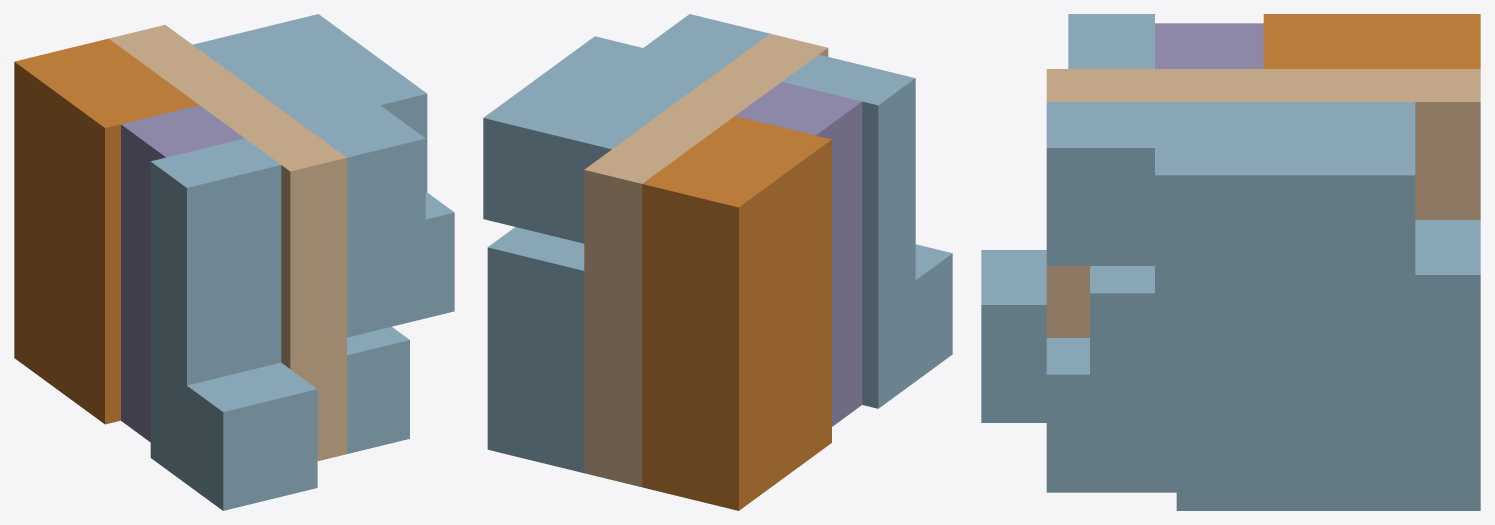
File: option.glb
The picture shows the model from 3 angles, left to right: view 1: azimuth 30°, elevation 25°; view 2: azimuth 150°, elevation 25°; view 3: azimuth 270°, elevation 25°; orthographic projection. The views are drawn at different scales.
Parts seen in each view (by area): view 1: cell_6, cell_4, cell_12, cell_11, cell_13, cell_10, cell_5, cell_14, cell_9, cell_3, cell_7, cell_0; view 2: cell_6, cell_13, cell_12, cell_5, cell_8, cell_1, cell_4, cell_11, cell_0, cell_7, cell_10, cell_14; view 3: cell_13, cell_9, cell_8, cell_12, cell_1, cell_14, cell_3, cell_2, cell_6, cell_4, cell_5, cell_11 (+1 smaller).
Part boxes in pixels (x1=…): cell_6: x1=14, y1=38, x2=198, y2=424; cell_4: x1=150, y1=359, x2=317, y2=510; cell_12: x1=109, y1=25, x2=346, y2=270; cell_11: x1=150, y1=138, x2=281, y2=286; cell_13: x1=193, y1=14, x2=427, y2=192; cell_10: x1=150, y1=260, x2=281, y2=385; cell_5: x1=121, y1=105, x2=244, y2=442; cell_14: x1=302, y1=105, x2=425, y2=256; cell_9: x1=347, y1=192, x2=454, y2=337; cell_3: x1=347, y1=326, x2=409, y2=453; cell_7: x1=281, y1=256, x2=346, y2=368; cell_0: x1=290, y1=355, x2=346, y2=460; cell_6: x1=642, y1=116, x2=831, y2=510; cell_13: x1=483, y1=36, x2=723, y2=243; cell_12: x1=584, y1=33, x2=828, y2=284; cell_5: x1=735, y1=82, x2=862, y2=426; cell_8: x1=487, y1=227, x2=584, y2=371; cell_1: x1=487, y1=348, x2=584, y2=472; cell_4: x1=862, y1=244, x2=952, y2=408; cell_11: x1=782, y1=54, x2=915, y2=206; cell_0: x1=584, y1=372, x2=642, y2=487; cell_7: x1=584, y1=271, x2=642, y2=385; cell_10: x1=862, y1=179, x2=915, y2=307; cell_14: x1=643, y1=14, x2=769, y2=67; cell_13: x1=1155, y1=102, x2=1415, y2=293; cell_9: x1=1090, y1=266, x2=1306, y2=411; cell_8: x1=1307, y1=220, x2=1480, y2=392; cell_12: x1=1046, y1=69, x2=1480, y2=219; cell_1: x1=1307, y1=393, x2=1480, y2=510; cell_14: x1=1046, y1=102, x2=1154, y2=265; cell_3: x1=1046, y1=338, x2=1176, y2=492; cell_2: x1=1176, y1=411, x2=1306, y2=510; cell_6: x1=1263, y1=14, x2=1480, y2=68; cell_4: x1=981, y1=250, x2=1046, y2=422; cell_5: x1=1155, y1=23, x2=1263, y2=68; cell_11: x1=1068, y1=14, x2=1154, y2=68.
Bounding box in the file's own units: 8.8 × 9 × 11.5.
